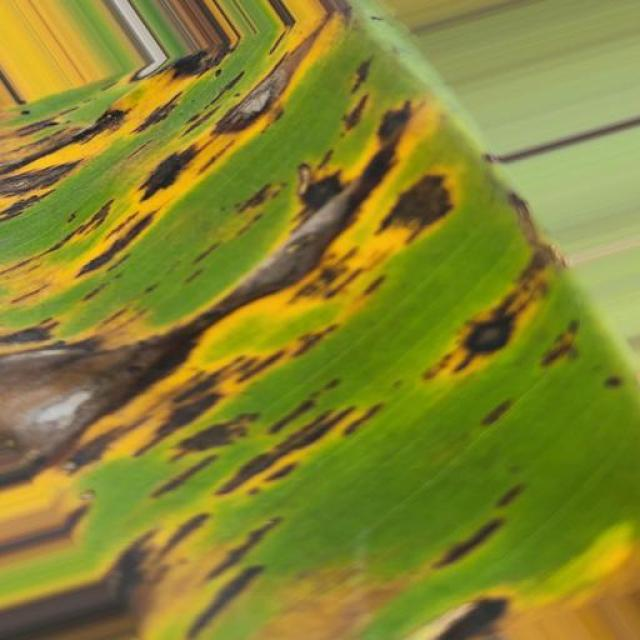Early_rust: (0, 16, 640, 640)
